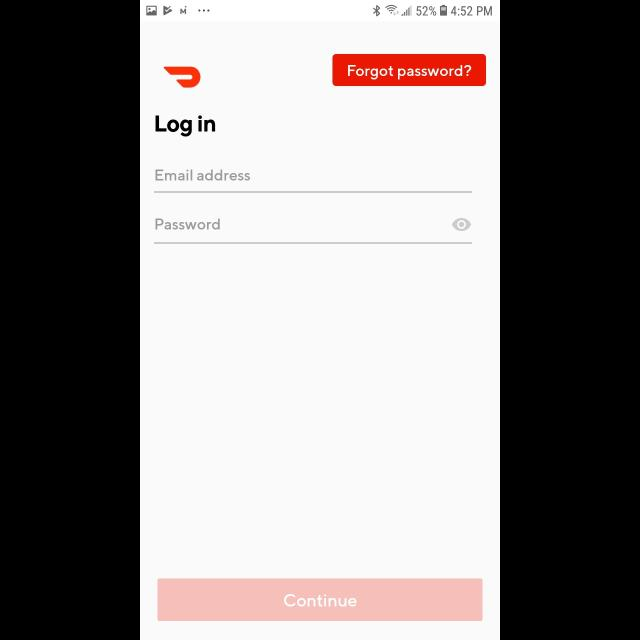icon: (452, 218, 472, 232)
image: (163, 67, 200, 89)
input: (154, 218, 472, 244), (154, 170, 472, 194)
text: (156, 115, 216, 136), (156, 170, 250, 182), (156, 218, 220, 230)
textbutton: (158, 579, 482, 621), (332, 54, 486, 86)
uppertaskbar: (140, 1, 500, 22)
